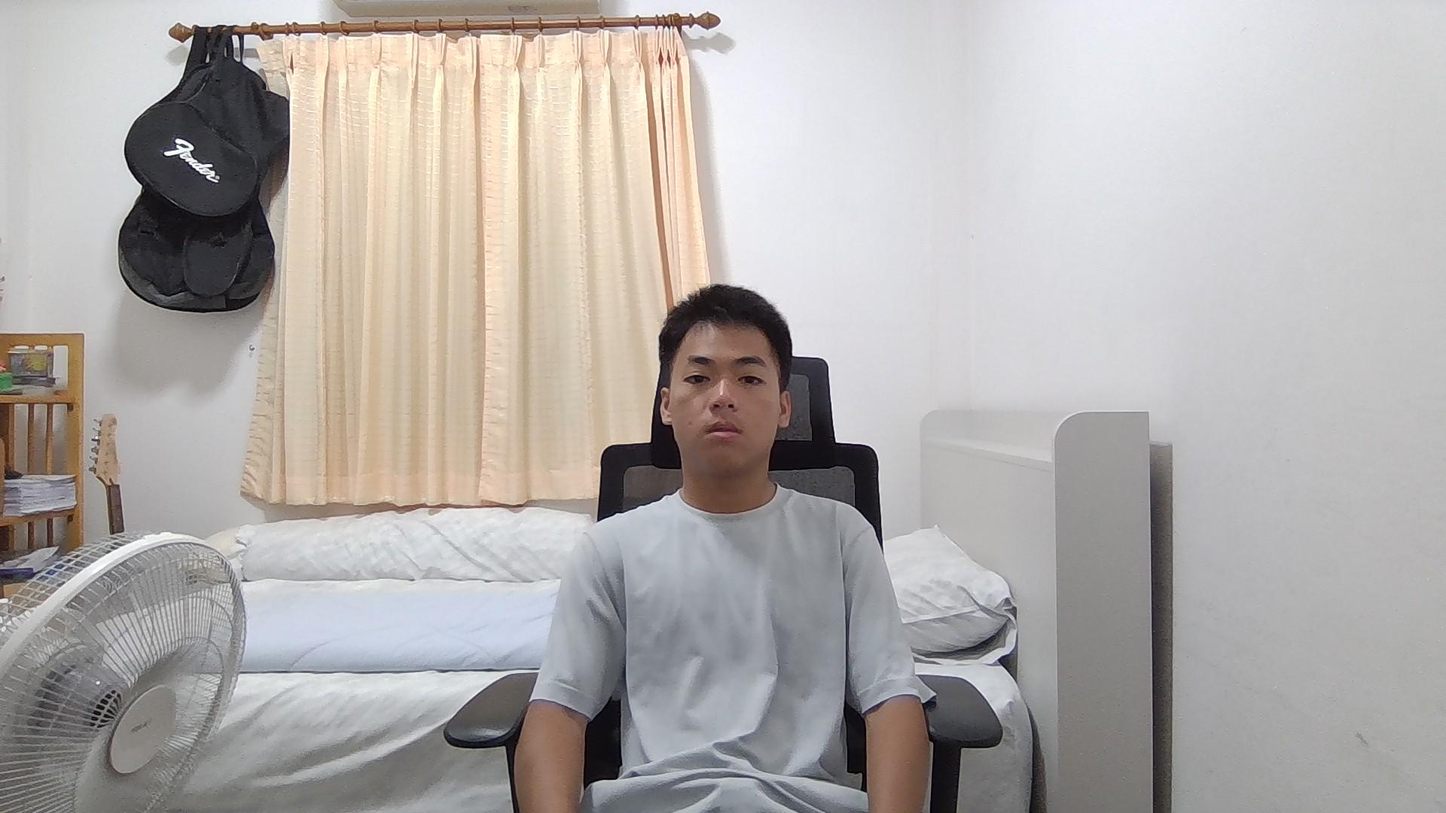BadPosture: (514, 285, 935, 812)
